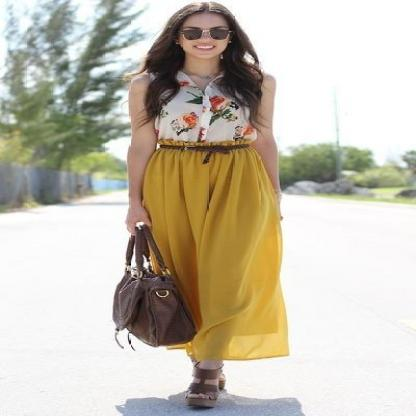bag: (112, 224, 201, 350)
shirt: (155, 69, 247, 141)
shoe: (188, 375, 218, 410)
skirt: (142, 130, 288, 360)
sunglass: (149, 248, 159, 274)
